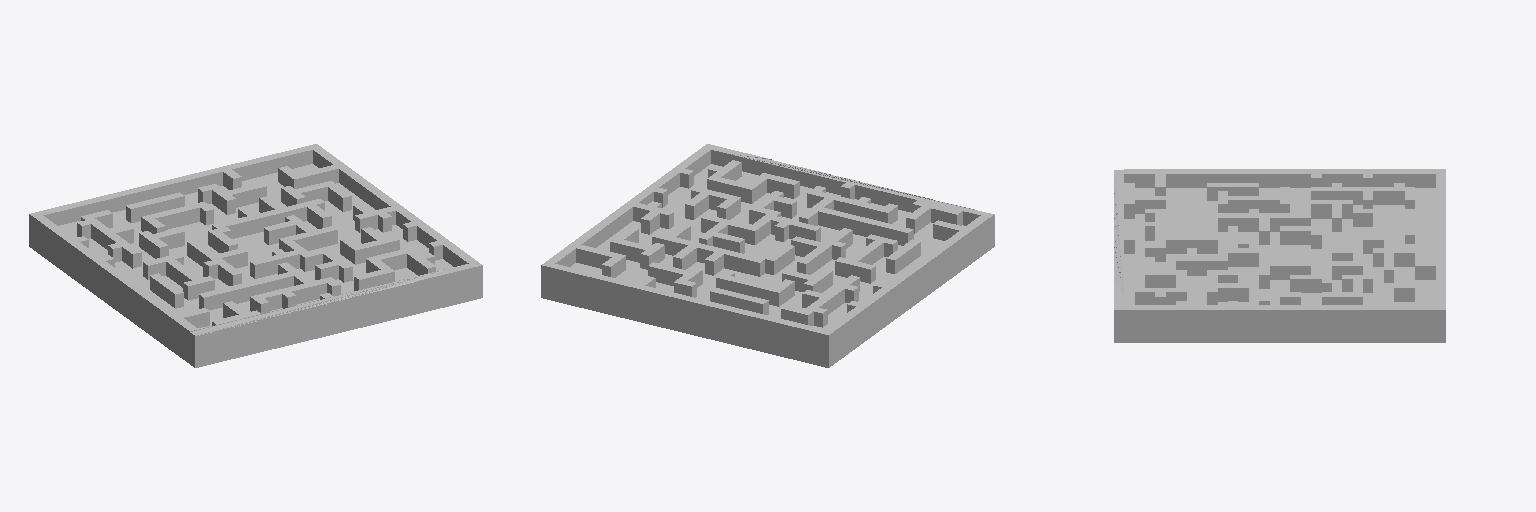
The model's file is Maze.obj.
The picture shows the model from 3 angles: view 1: azimuth 30°, elevation 25°; view 2: azimuth 150°, elevation 25°; view 3: azimuth 270°, elevation 25°; orthographic projection.
Visible parts, largest first — view 1: Cube.002; view 2: Cube.002; view 3: Cube.002.
Boxes of the visible parts, <box> form: Cube.002: <box>29,144,482,367</box>; Cube.002: <box>541,144,994,367</box>; Cube.002: <box>1114,169,1445,342</box>.
Bounding box in the file's own units: 16 × 1.75 × 16.